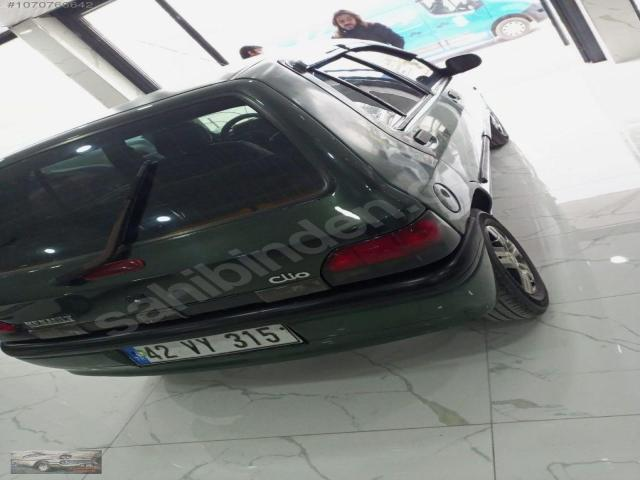plaka: (121, 324, 302, 365)
